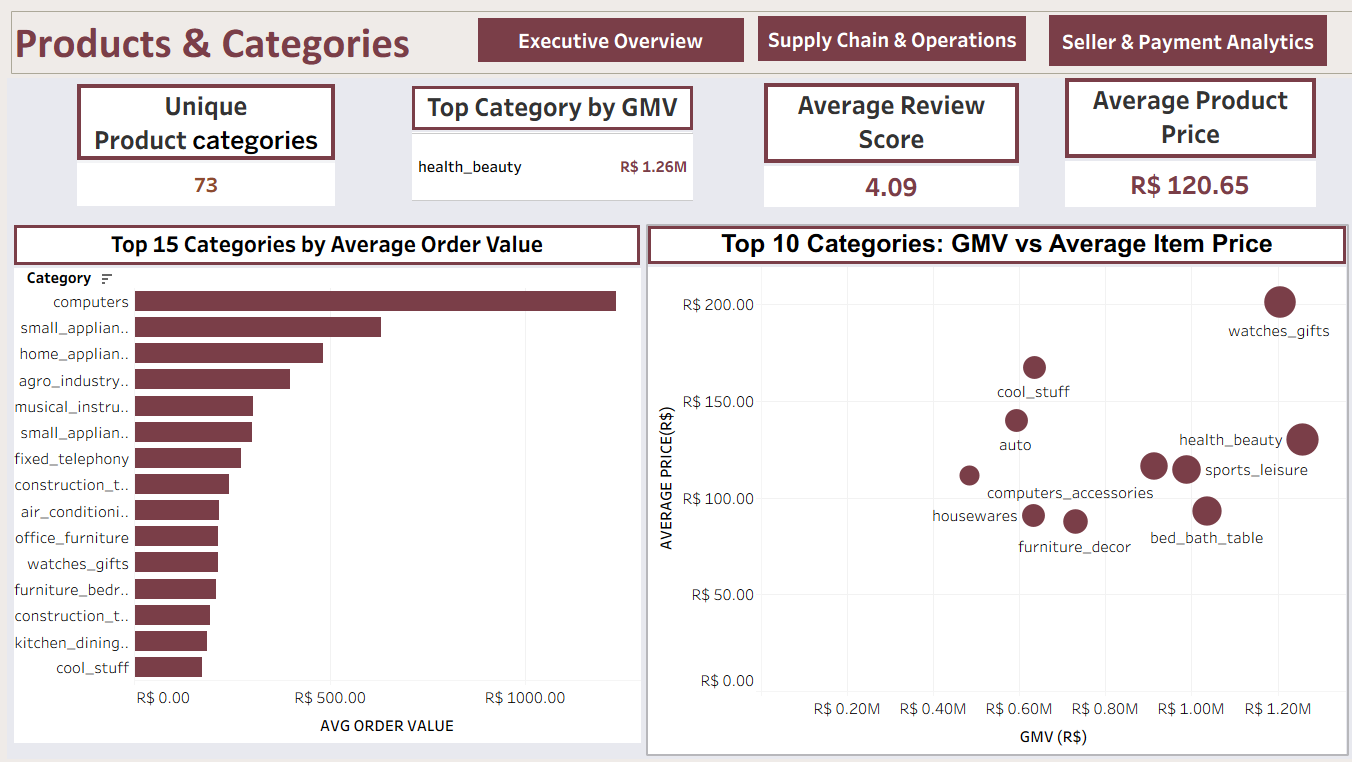

Layout of this report page (visuals, bound fields, positions):
{"tool":"tableau","page":{"name":"Products and Categories","canvas":[1366,768],"ordinal":1},"visuals":[{"type":"title","box":[8,8,1350,71]},{"type":"dashboard-object","box":[1049.5,16.3,279,50.7]},{"type":"dashboard-object","box":[759,17.2,268.4,45]},{"type":"dashboard-object","box":[479.1,19.2,265.5,44.1]},{"type":"worksheet","title":"Average Product Price","mark":"Automatic","box":[1065.9,79.5,251.1,129.3]},{"type":"worksheet","title":"AVG REVIEW SCORE","mark":"Automatic","box":[764.8,84.3,254.9,124.5]},{"type":"worksheet","title":"Unique Products categories","mark":"Automatic","box":[77.9,85.2,257.8,121.6]},{"type":"worksheet","title":"TOP CATEGORY BY GMV","mark":"Automatic","rows":["Calculation_1537697856226131973"],"box":[413,87,281,115]},{"type":"worksheet","title":"Top 15 categories by Average Order Value","mark":"Automatic","rows":["Calculation_1537697856226131973"],"cols":["Calculation_1529816547792969733"],"box":[15.4,226,630.1,519]},{"type":"worksheet","title":"10 categories by gmv & average item price","mark":"Circle","rows":["price"],"cols":["price"],"box":[649.3,227,698.4,527.6]}]}

Visuals, with their boxes in screenshot pixels (x1, y1, x2, y2), scaled from the page's 1366x768 canvas onto the 1352x762 screenshot:
title: (8,8,1344,78)
dashboard-object: (1039,16,1315,66)
dashboard-object: (751,17,1017,62)
dashboard-object: (474,19,737,63)
"Average Product Price" worksheet: (1055,79,1304,207)
"AVG REVIEW SCORE" worksheet: (757,84,1009,207)
"Unique Products categories" worksheet: (77,85,332,205)
"TOP CATEGORY BY GMV" worksheet: (409,86,687,200)
"Top 15 categories by Average Order Value" worksheet: (15,224,639,739)
"10 categories by gmv & average item price" worksheet (Circle marks): (643,225,1334,749)
